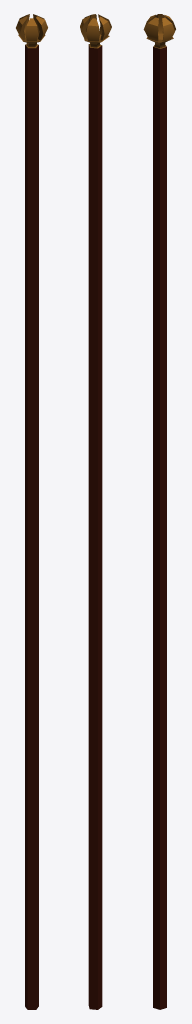
File: bannerPole.fbx
3 views of the same model, side by side, from view 1: azimuth 90°, elevation 25°; view 2: azimuth 150°, elevation 25°; view 3: azimuth 270°, elevation 25° (orthographic).
Visible parts, largest first — view 1: pCylinder1; view 2: pCylinder1; view 3: pCylinder1.
Boxes of the visible parts, x1,y1,x2,y2 form: pCylinder1: (16,14,47,1009); pCylinder1: (80,14,111,1009); pCylinder1: (143,14,175,1009).
Bounding box in the file's own units: 0.6891 × 24.46 × 0.7276.
